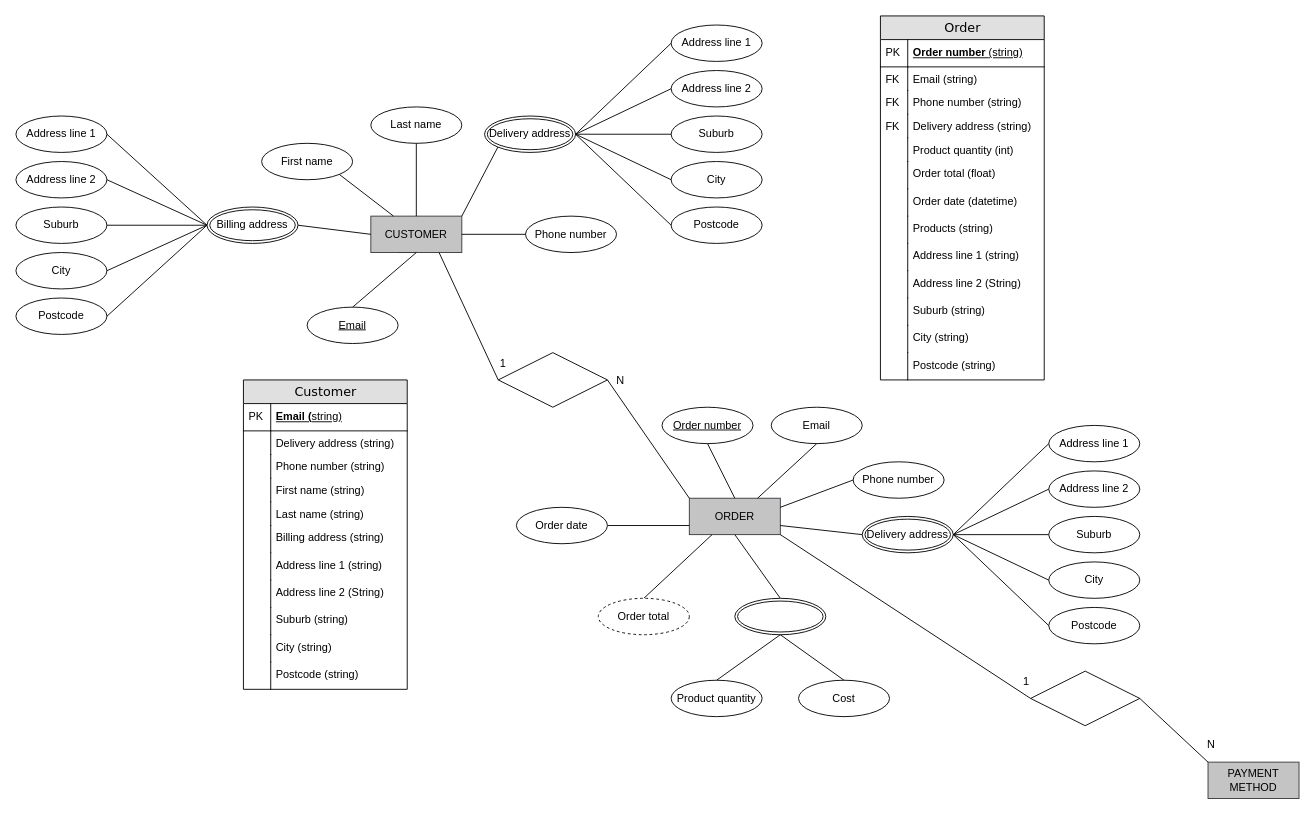
The diagram is 1315 pixels wide and 814 high, and some of its shapes have lost their labels. The shapes that lost their labels are listed below. From the top down, each one's box as (x1, y1, x2, y2) in pixels, then its label:
(497, 352, 607, 407): PLACES
(734, 597, 826, 635): Products
(1030, 670, 1140, 726): INCLUDES
